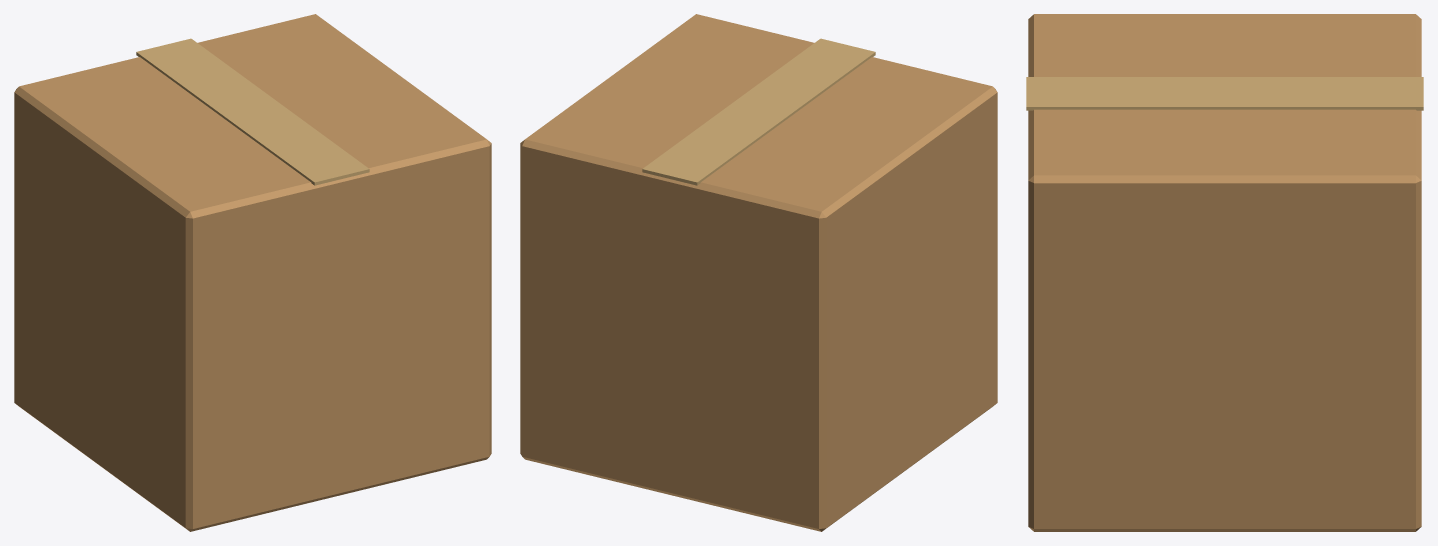
Rendered from sm_box_s_closed.glb.
3 renders of one model, left to right at view 1: azimuth 30°, elevation 25°; view 2: azimuth 150°, elevation 25°; view 3: azimuth 270°, elevation 25°, orthographic. The views are drawn at different scales.
Visible parts, largest first — view 1: box_s_closed, box_s_closed_tape; view 2: box_s_closed, box_s_closed_tape; view 3: box_s_closed, box_s_closed_tape.
Boxes of the visible parts, left/top/right/bottom form: box_s_closed: left=14, top=14, right=491, bottom=531; box_s_closed_tape: left=136, top=38, right=369, bottom=185; box_s_closed: left=520, top=14, right=997, bottom=531; box_s_closed_tape: left=642, top=38, right=875, bottom=185; box_s_closed: left=1028, top=14, right=1421, bottom=531; box_s_closed_tape: left=1026, top=77, right=1423, bottom=110.
Size of what is drawn, in the model's own units: 0.4 by 0.403 by 0.404.
